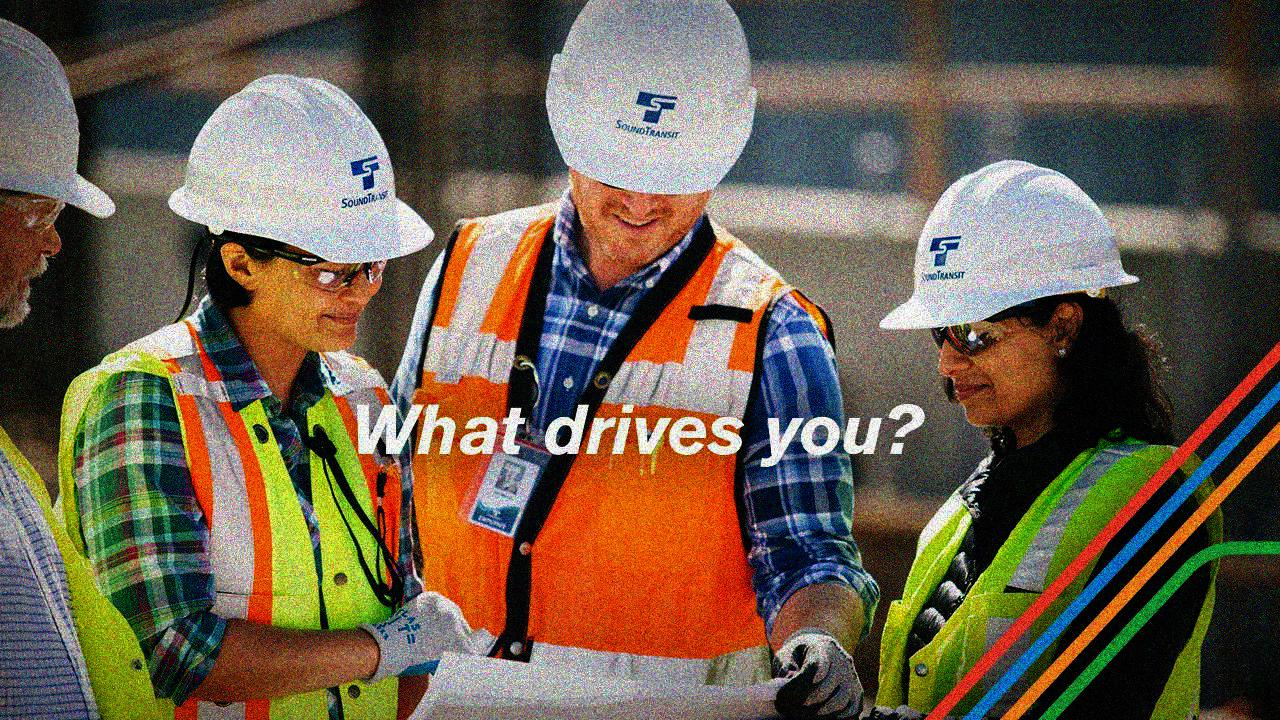helmet: (159, 64, 441, 354), (877, 149, 1142, 427), (542, 1, 762, 266), (1, 14, 123, 339)
